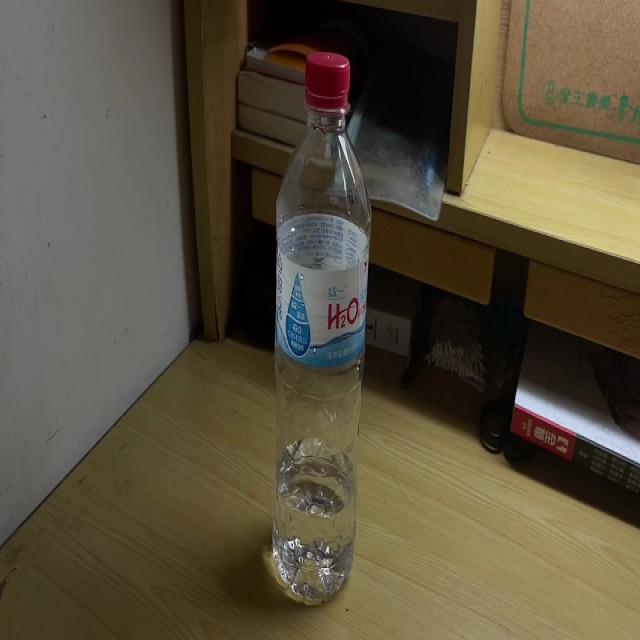Water: (270, 50, 370, 608)
